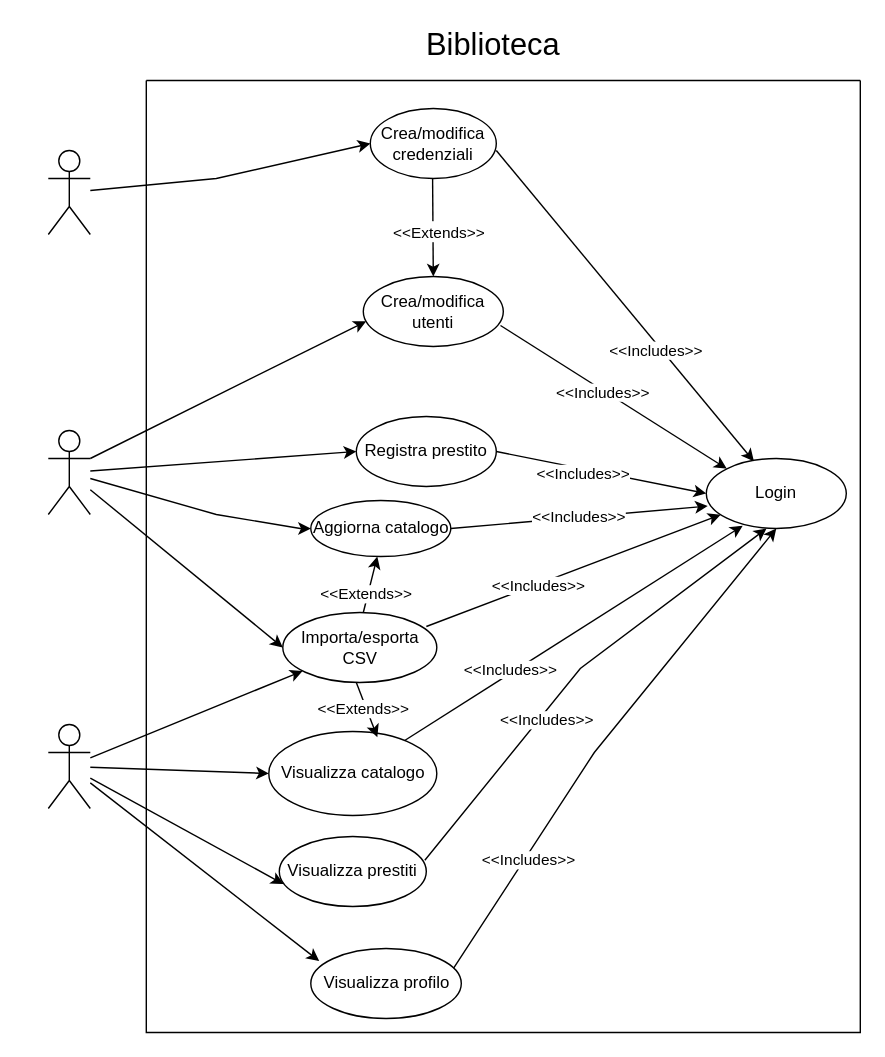
This 885x1057 diagram has some shape labels left out. Here are the shapes that lost their labels. From the top down, the centre of each, then its label:
At [68,191]: "Admin".
At [68,471]: "Bibliotecario".
At [68,765]: "Utente".
